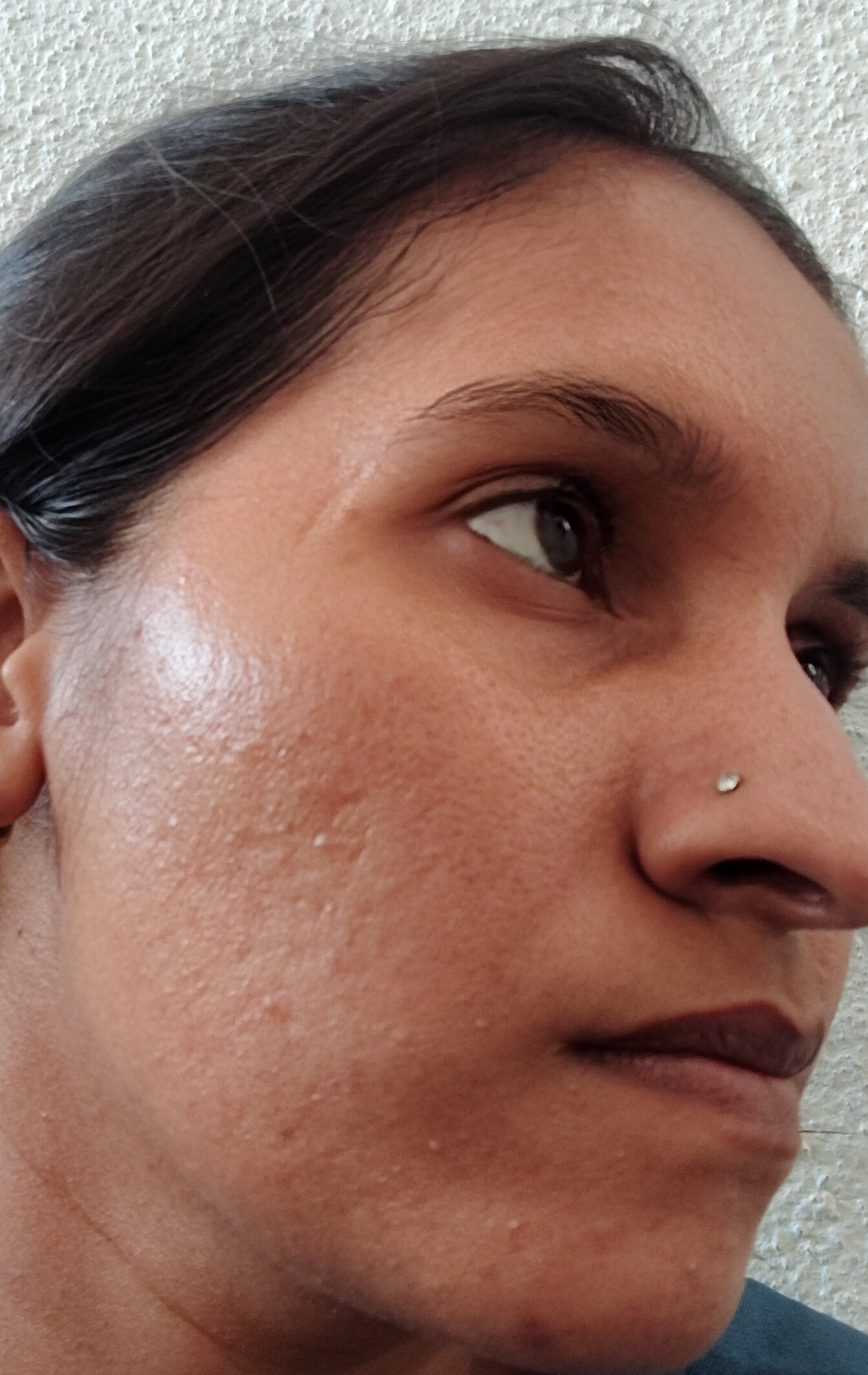closed_comedone: (408, 1128, 485, 1180), (281, 817, 349, 865), (451, 996, 512, 1046), (249, 980, 285, 1035)
pustule: (481, 1187, 551, 1248)
